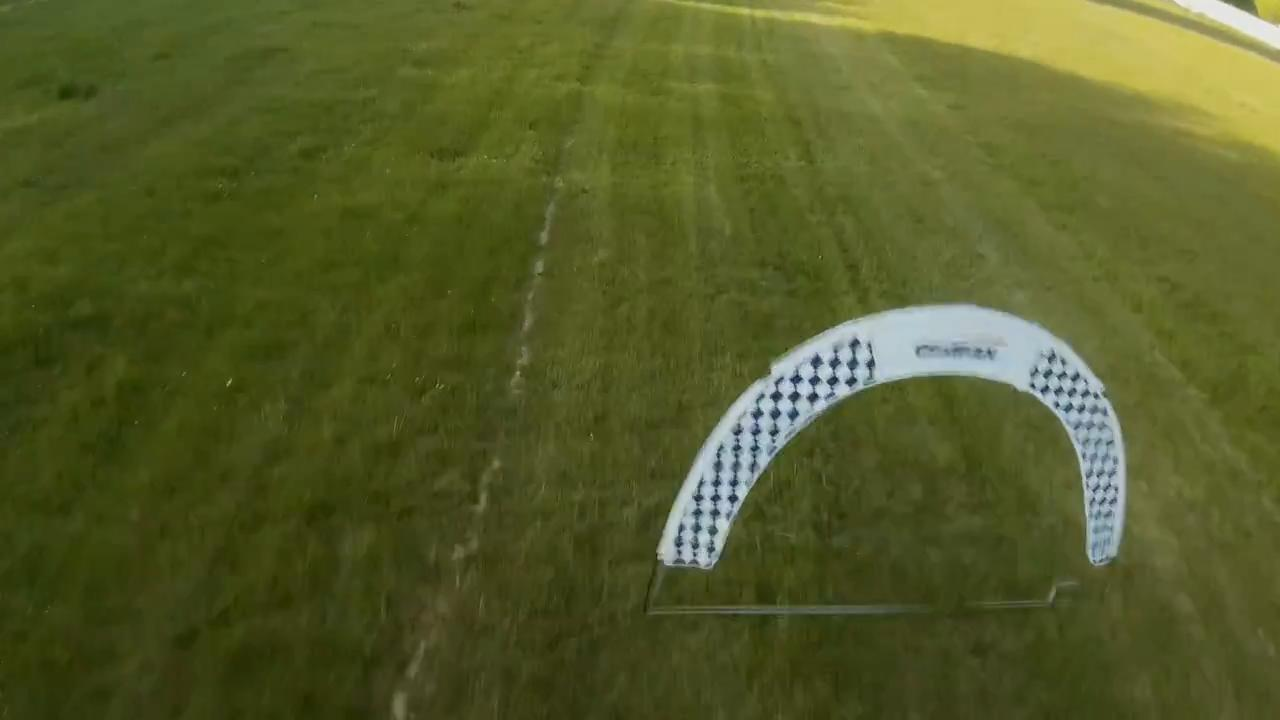gate: (656, 300, 1122, 567)
